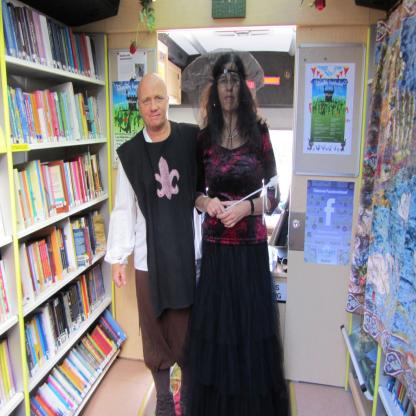book: (0, 0, 128, 416), (382, 374, 415, 416), (18, 243, 34, 302)
